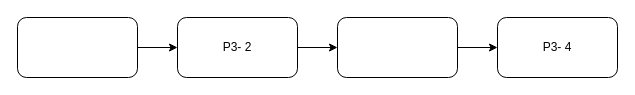
Some shapes in this 635 by 95 pixel diagram are drawn without their labels. Here are the shapes that lost their labels. From the top down, the centre of each, then its label:
(77,47): P3- 1
(397,47): P3- 3
